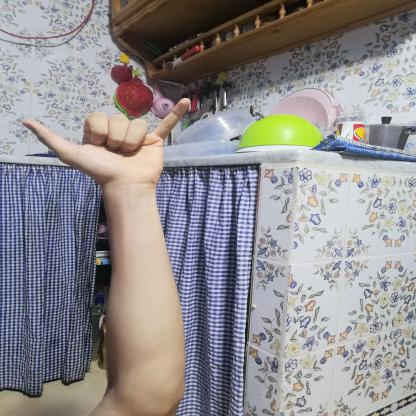YA: (9, 88, 206, 198)
